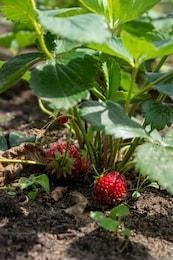Fresa: (91, 165, 131, 209)
